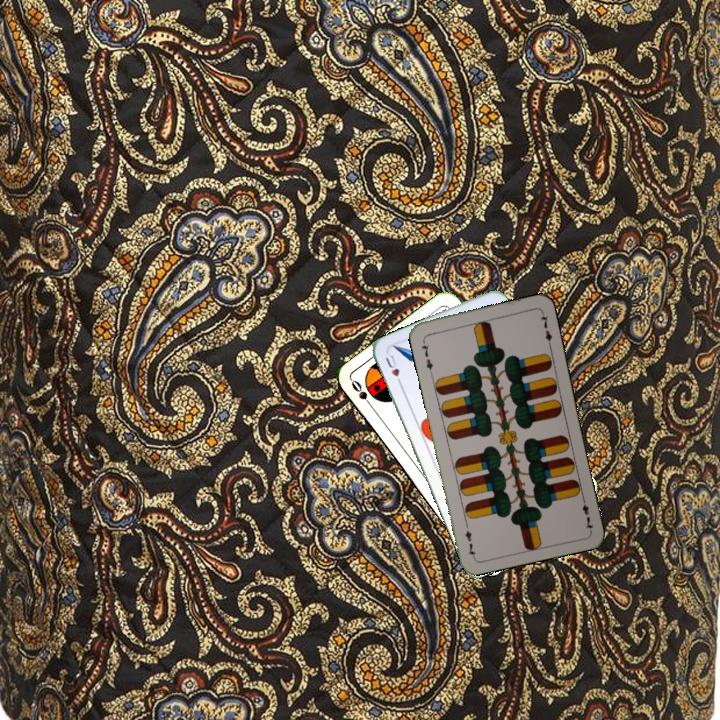E7: (417, 335, 436, 375), (578, 493, 596, 533)
HU: (381, 350, 405, 389)
SO: (347, 376, 376, 412)
